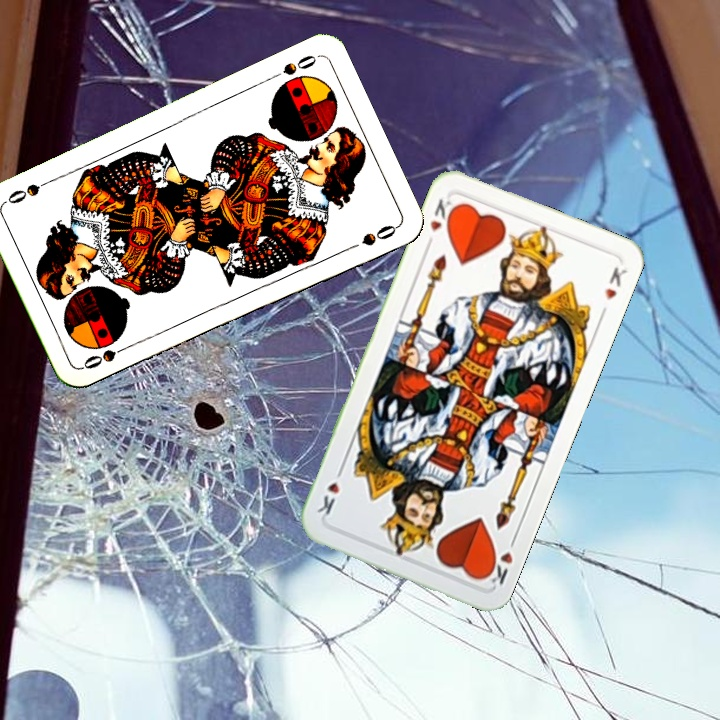HK: (480, 532, 519, 589), (425, 192, 459, 234)
SO: (79, 339, 135, 372), (265, 50, 321, 83)
